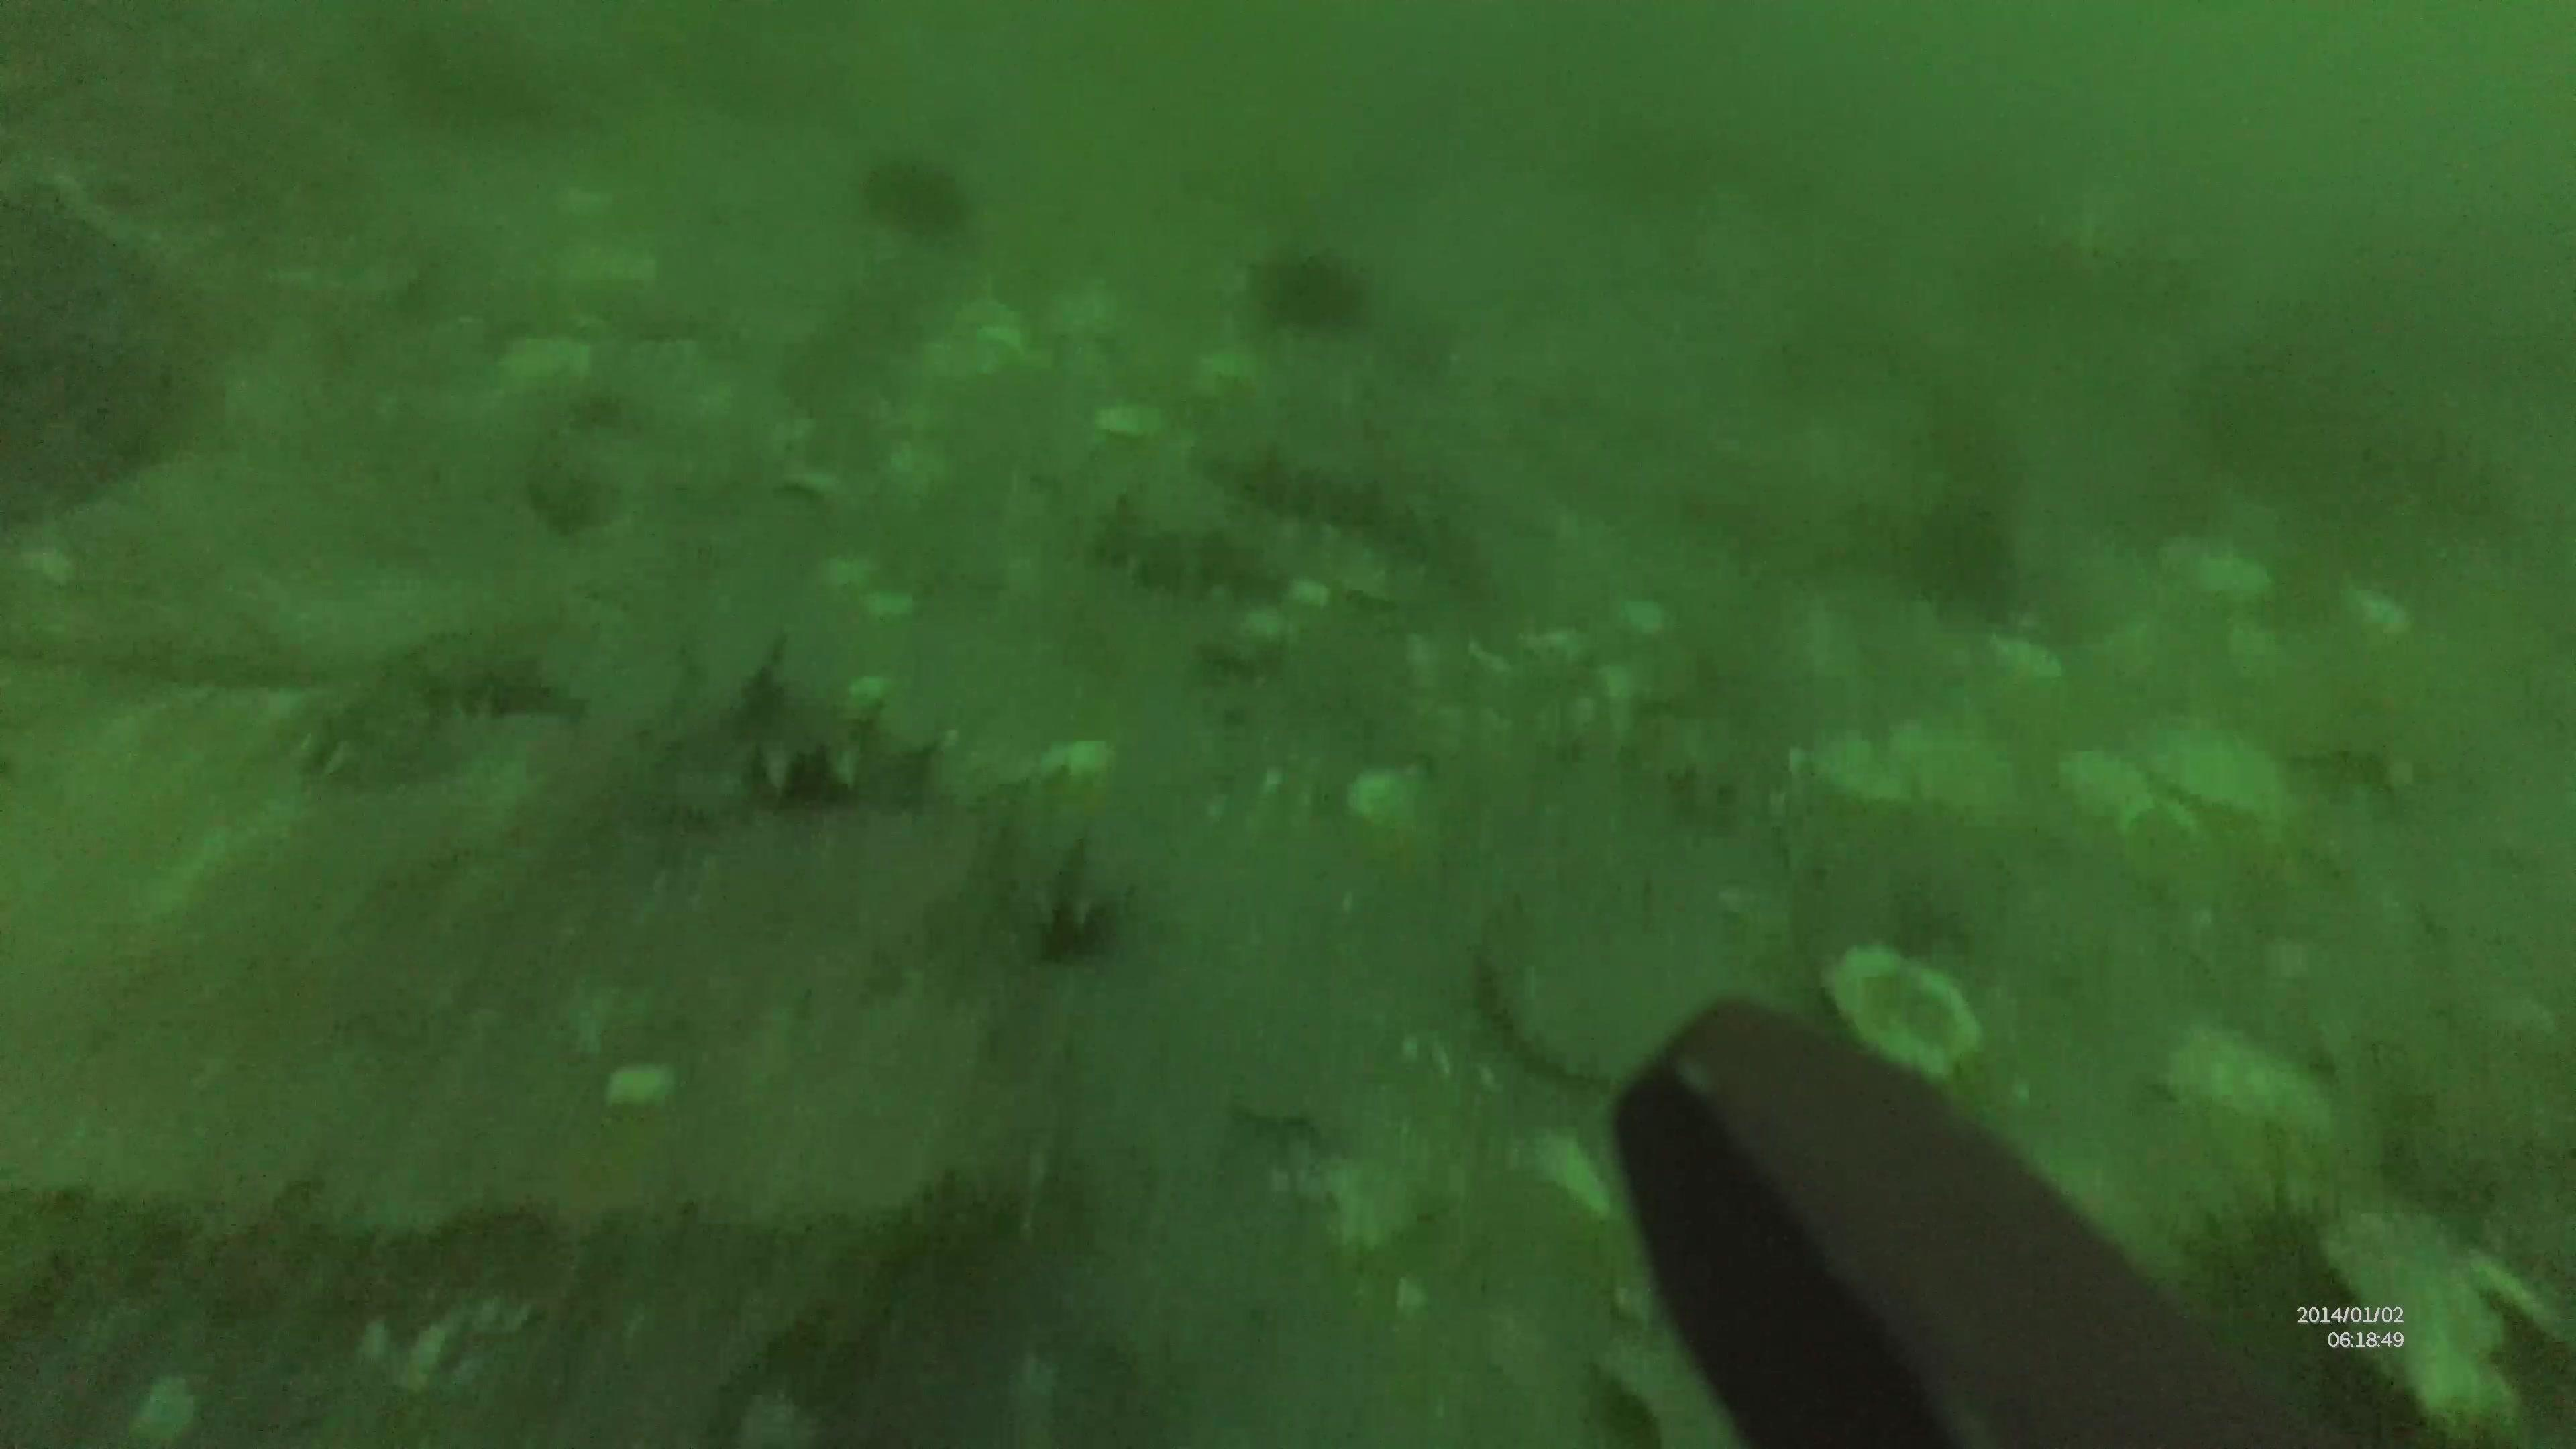echinus: (2155, 1168, 2426, 1380), (1238, 235, 1385, 336), (847, 145, 968, 234)
holothurian: (288, 628, 605, 773), (1207, 442, 1504, 584), (648, 694, 938, 817), (1060, 502, 1288, 603)
